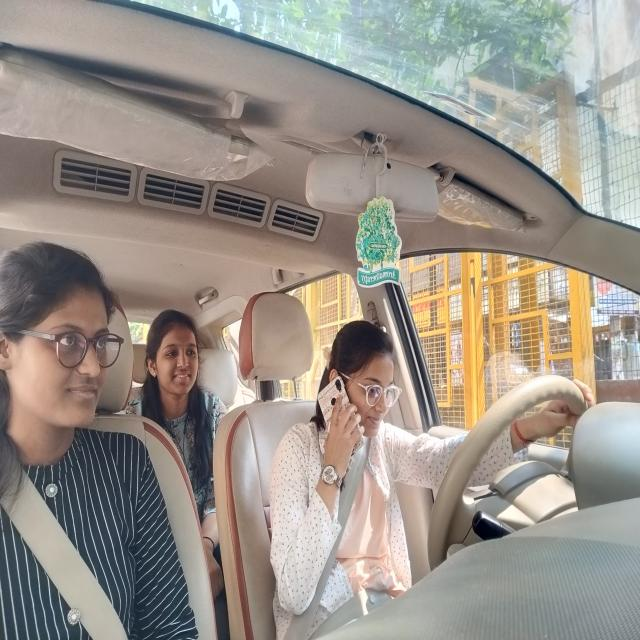mobile: (316, 386, 359, 460)
person: (16, 257, 112, 438), (330, 314, 400, 444), (142, 305, 206, 398)
